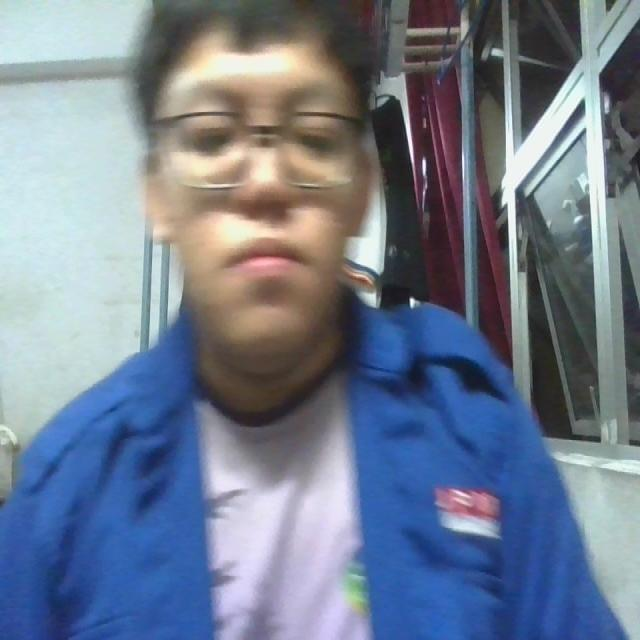person_with_labcoat: (0, 0, 627, 639)
